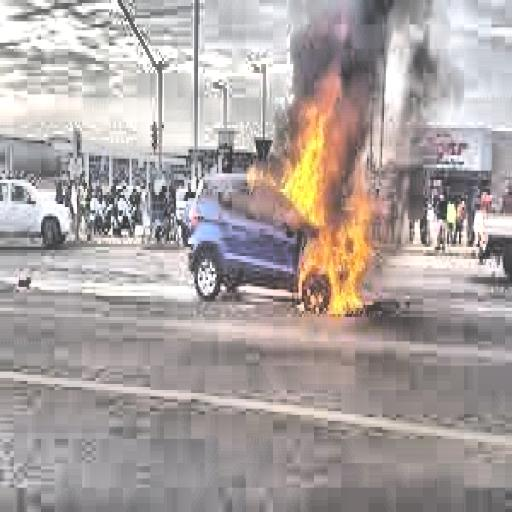fire: (244, 79, 379, 323)
